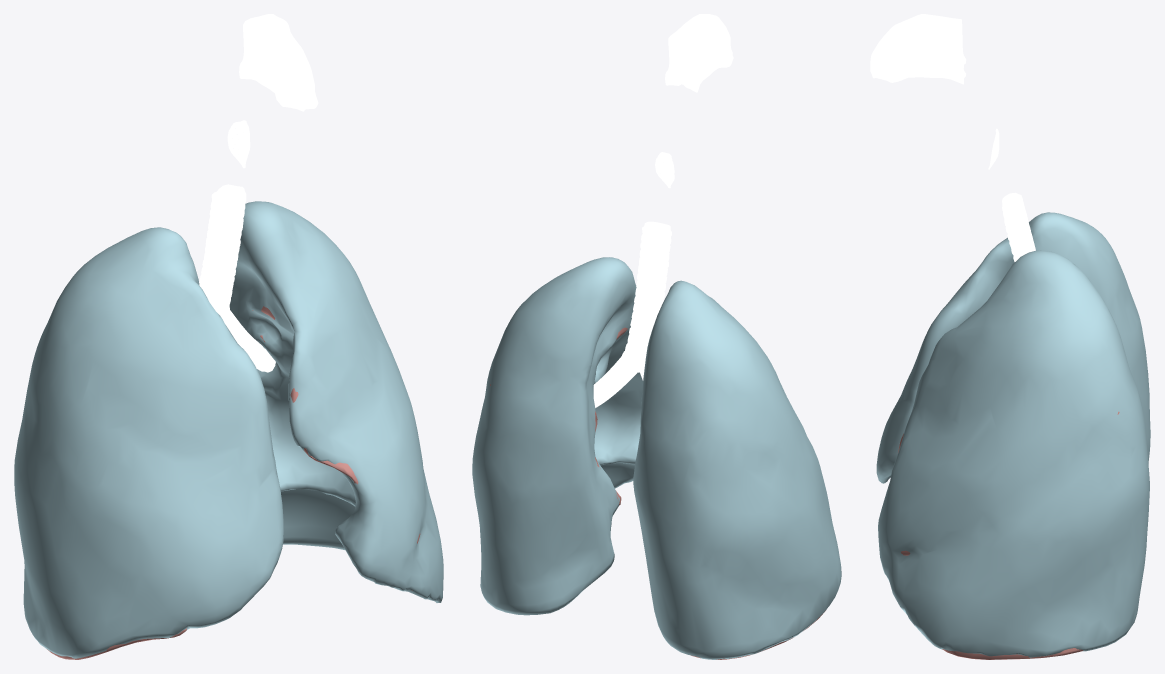
The model's file is respiratory.glb.
3 views of the same model, side by side, from view 1: azimuth 30°, elevation 25°; view 2: azimuth 150°, elevation 25°; view 3: azimuth 270°, elevation 25° (orthographic). The views are drawn at different scales.
Parts seen in each view (by area): view 1: za_pleura, za_mucosa_of_nasal_cavity, za_trachea, za_left_main_bronchus, za_epiglottis; view 2: za_pleura, za_mucosa_of_nasal_cavity, za_trachea, za_left_main_bronchus; view 3: za_pleura, za_mucosa_of_nasal_cavity, za_trachea, za_inferior_lobe_of_left_lung.
Part boxes in pixels (left/top/right/bottom): za_pleura: left=14, top=201, right=443, bottom=658; za_mucosa_of_nasal_cavity: left=239, top=14, right=318, bottom=111; za_trachea: left=199, top=184, right=246, bottom=316; za_left_main_bronchus: left=221, top=310, right=273, bottom=371; za_epiglottis: left=227, top=120, right=250, bottom=168; za_pleura: left=472, top=257, right=841, bottom=659; za_mucosa_of_nasal_cavity: left=665, top=14, right=733, bottom=92; za_trachea: left=622, top=221, right=671, bottom=372; za_left_main_bronchus: left=593, top=344, right=637, bottom=407; za_pleura: left=876, top=212, right=1150, bottom=657; za_mucosa_of_nasal_cavity: left=870, top=14, right=966, bottom=84; za_trachea: left=1002, top=192, right=1035, bottom=261; za_inferior_lobe_of_left_lung: left=942, top=648, right=1083, bottom=659.
Bounding box in the file's own units: 0.2633 × 0.4306 × 0.1926.
